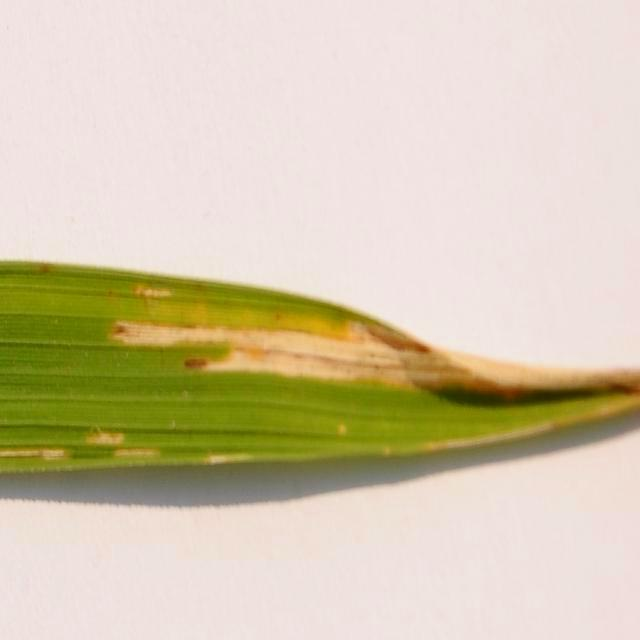bacterial_leaf_blight: (108, 319, 639, 396), (1, 446, 72, 463), (86, 431, 125, 446), (113, 448, 157, 459), (135, 285, 171, 297)
